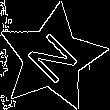N_SE: (20, 26, 84, 90)
